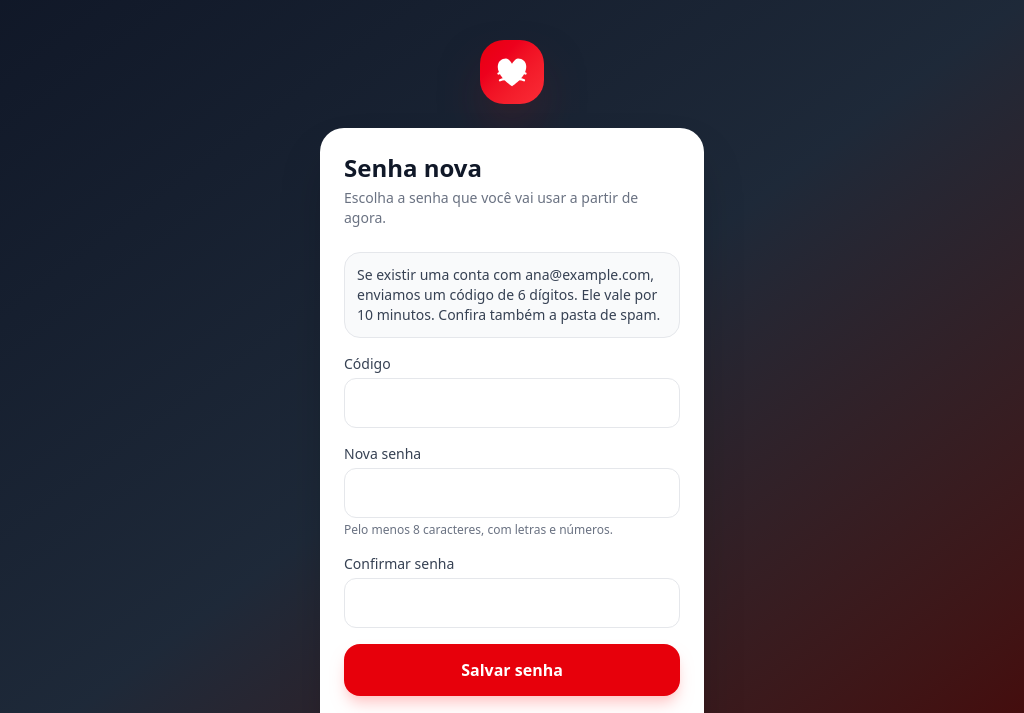
ResetPasswordPage › aplica as regras e a confirmação antes de usar o código
Type "123456" into the field labelled "Código".
click(512, 403); type("123456")  # box [344,378,680,428]
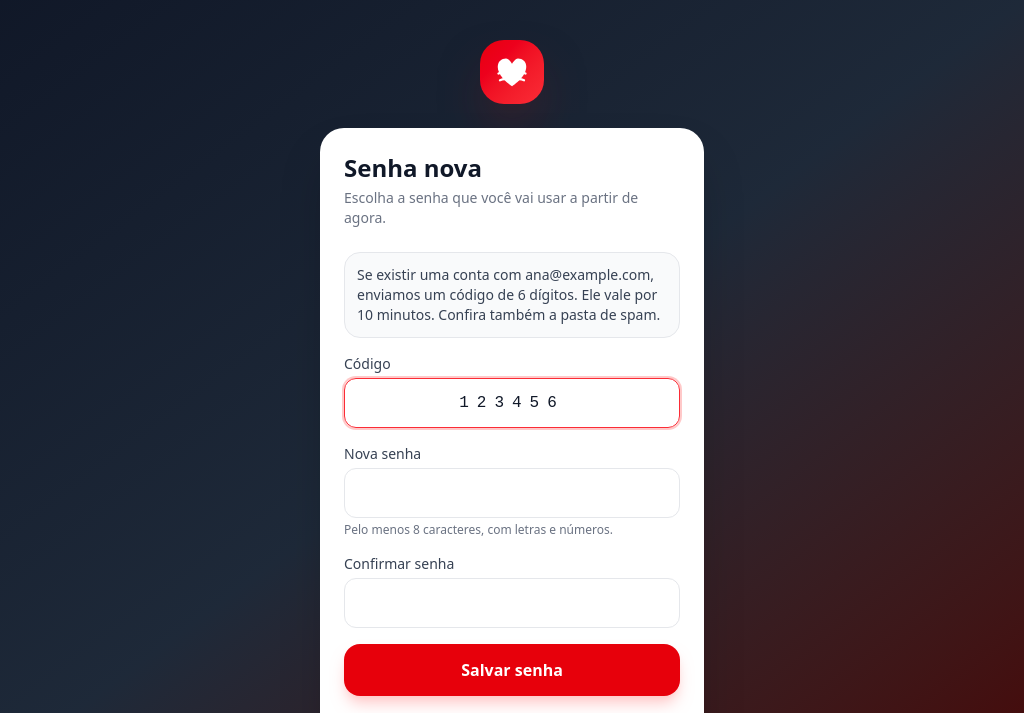
Type "curta1" into the password field labelled "Nova senha".
click(512, 493); type("curta1")  # box [344,468,680,518]
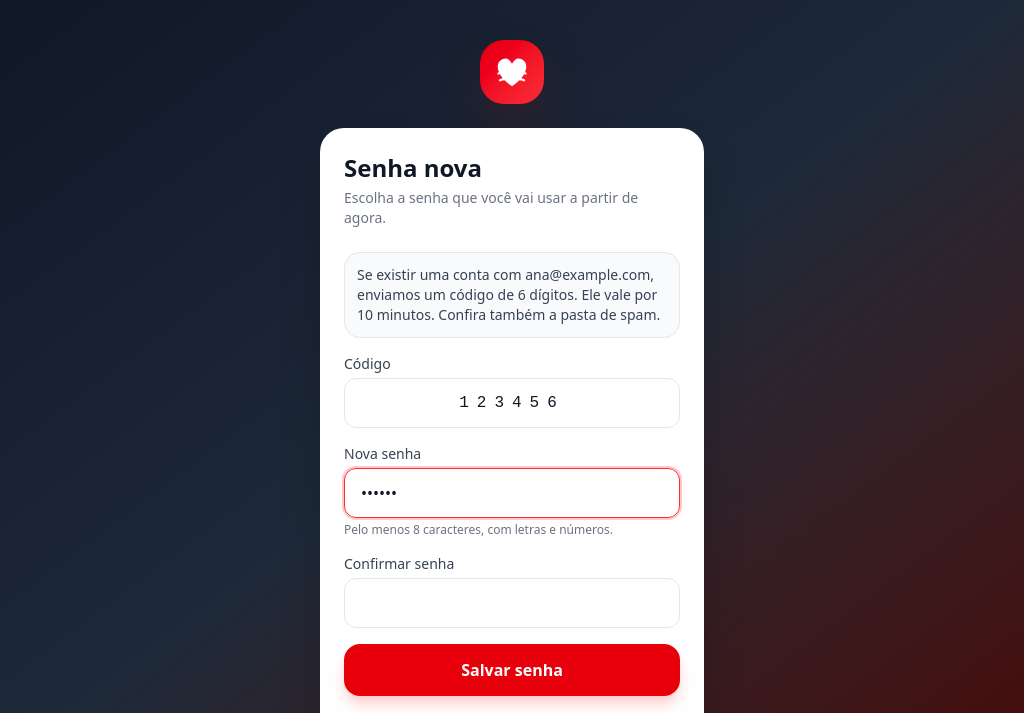
Type "curta2" into the password field labelled "Confirmar senha".
click(512, 603); type("curta2")  # box [344,578,680,628]
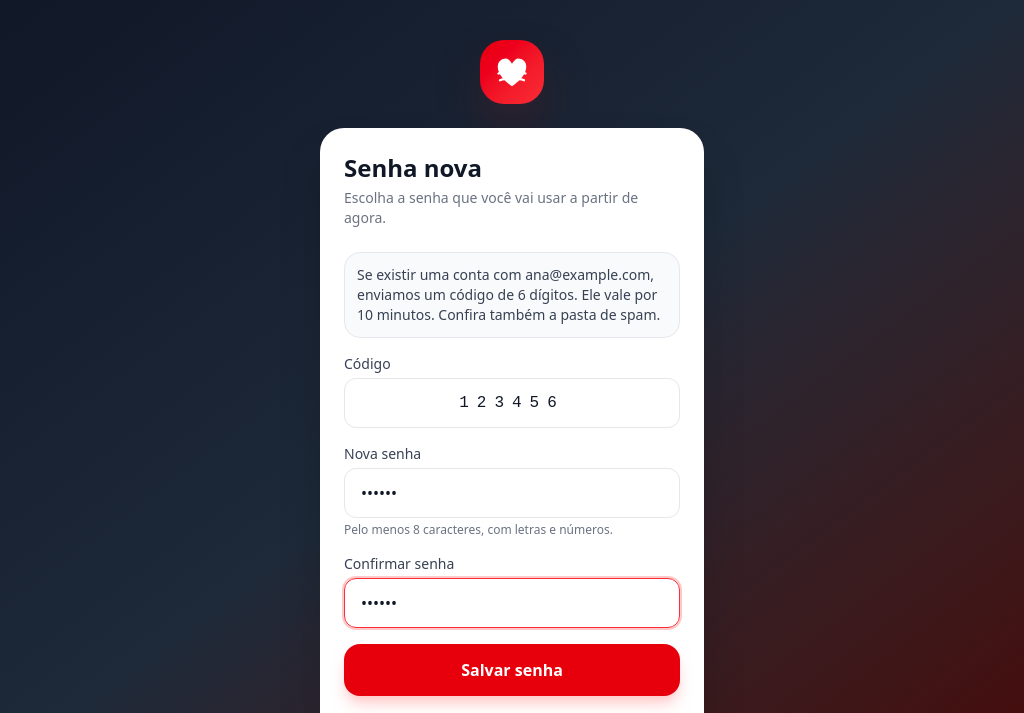
Click the button "Salvar senha".
click(512, 670)  # box [344,644,680,696]
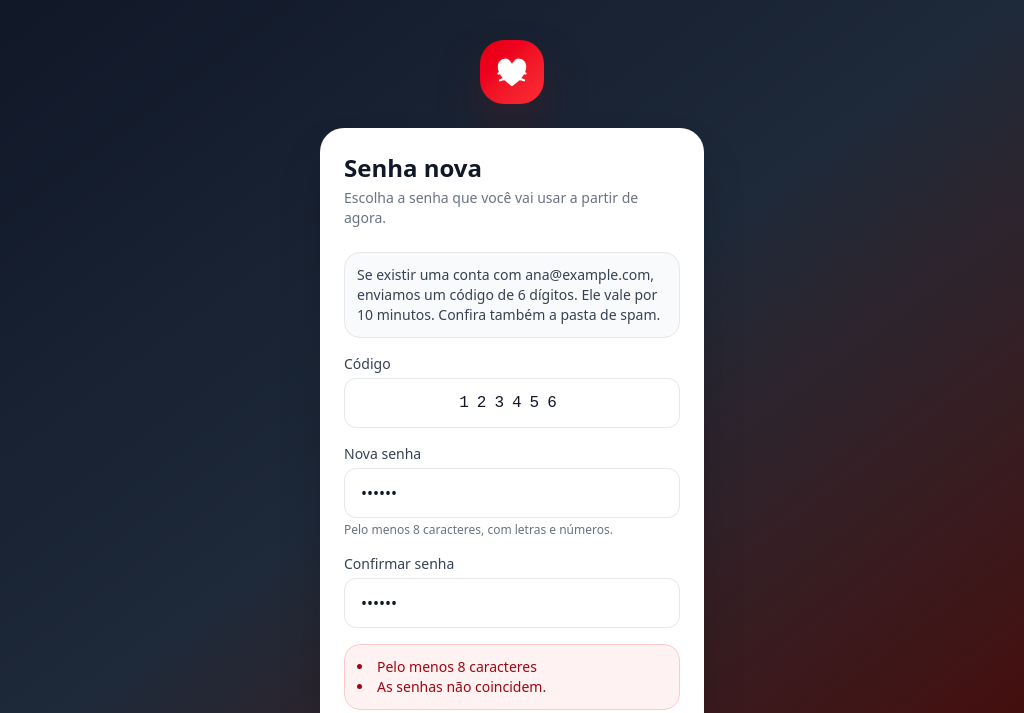
Expected: the list item "Pelo menos 8 caracteres" is shown, [377,657,537,676]
Expected: the list item "As senhas não coincidem." is shown, [377,677,546,696]
